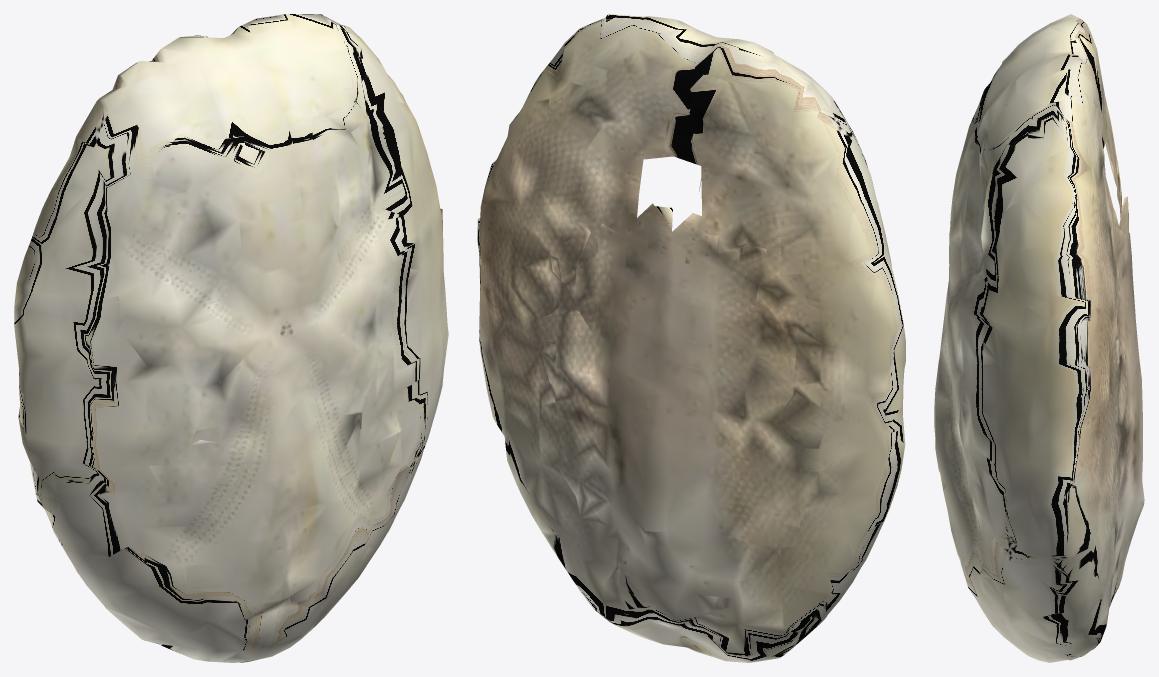
File: urchin-plagiobrissus.glb
3 renders of one model, left to right at view 1: azimuth 30°, elevation 25°; view 2: azimuth 150°, elevation 25°; view 3: azimuth 270°, elevation 25°, orthographic. The views are drawn at different scales.
Parts seen in each view (by area): view 1: Plagiobrissus_grandis-150k; view 2: Plagiobrissus_grandis-150k; view 3: Plagiobrissus_grandis-150k.
Part boxes in pixels (bbox=[...]): Plagiobrissus_grandis-150k: bbox=[14, 14, 448, 662]; Plagiobrissus_grandis-150k: bbox=[477, 14, 905, 662]; Plagiobrissus_grandis-150k: bbox=[934, 14, 1144, 662].
Bounding box in the file's own units: 0.1383 × 0.1954 × 0.0619.
1 material, 1 textured.
